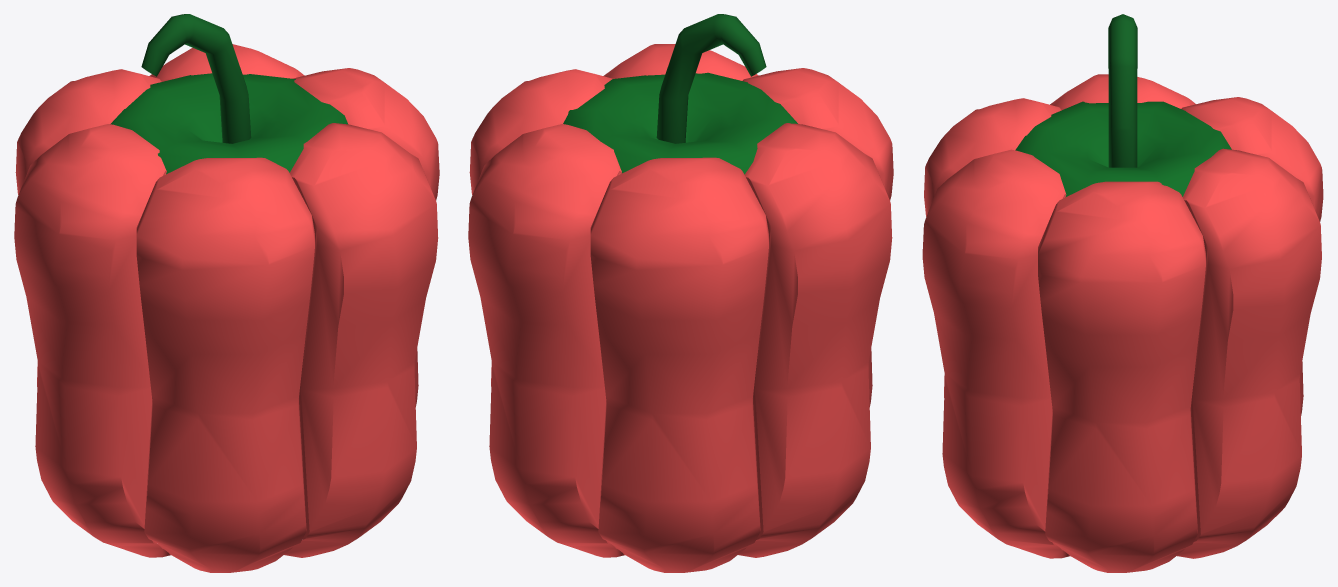
The model's file is pepper1.glb.
3 renders of one model, left to right at view 1: azimuth 30°, elevation 25°; view 2: azimuth 150°, elevation 25°; view 3: azimuth 270°, elevation 25°, orthographic. The views are drawn at different scales.
Size of the model in its own units: 0.5217 by 0.6789 by 0.5007.
